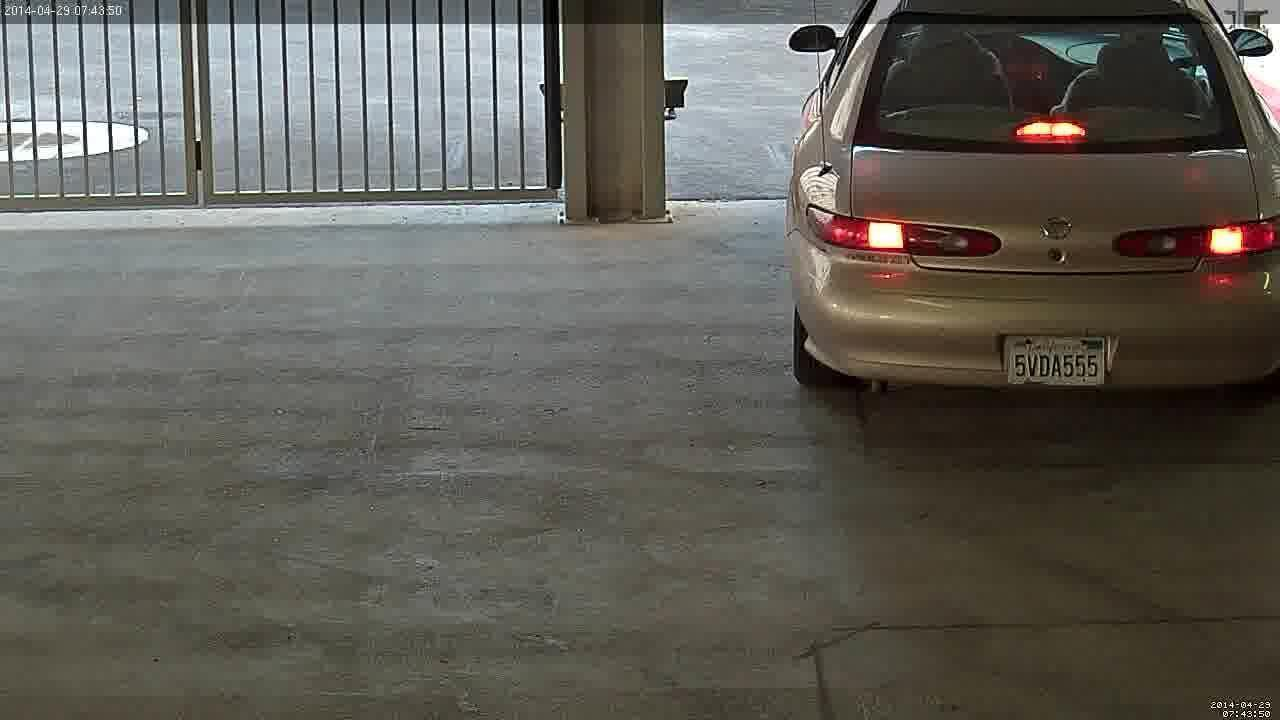placa de veiculo: (981, 318, 1123, 411)
